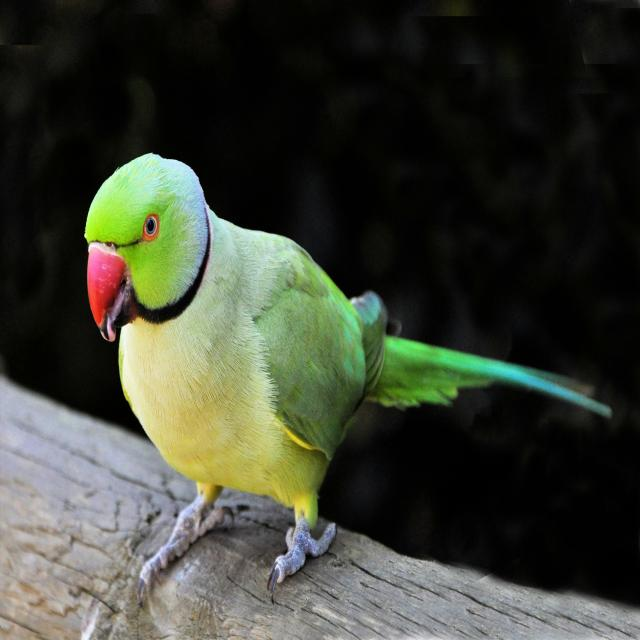Parrot: (84, 154, 606, 579)
